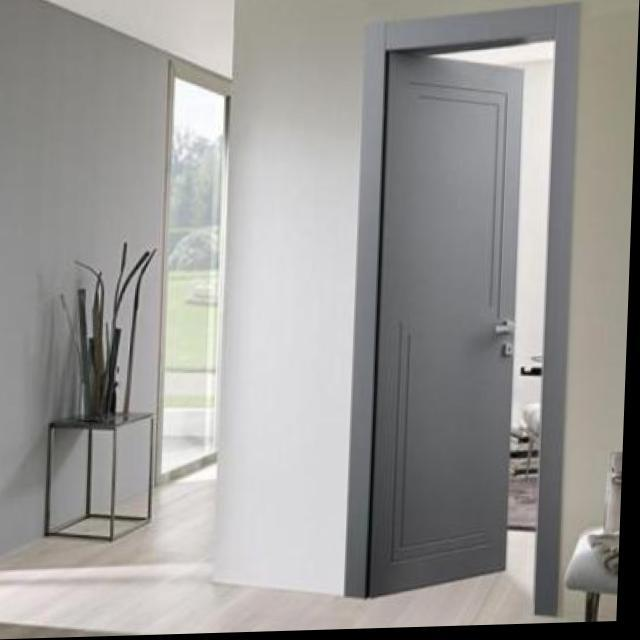door_handle: (485, 319, 522, 347)
